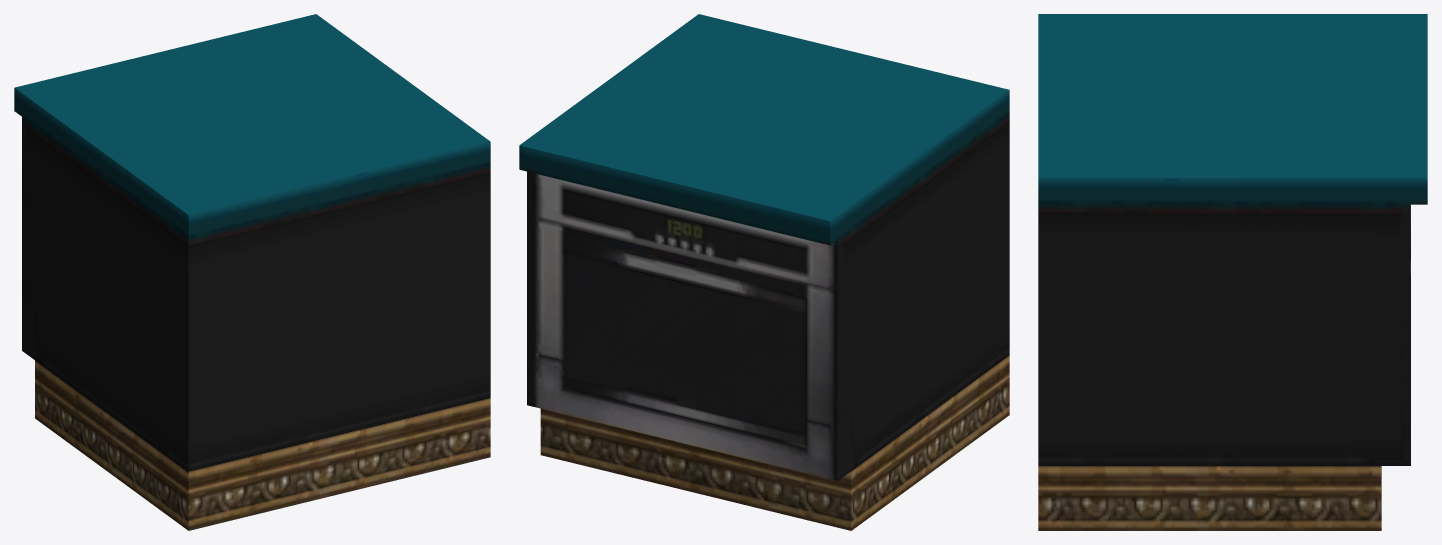
File: furni_0200323_02.FBX
The picture shows the model from 3 angles, left to right: view 1: azimuth 30°, elevation 25°; view 2: azimuth 150°, elevation 25°; view 3: azimuth 270°, elevation 25°; orthographic projection. The views are drawn at different scales.
Visible parts, largest first — view 1: furni_0200323_02; view 2: furni_0200323_02; view 3: furni_0200323_02.
Boxes of the visible parts, x1,y1,x2,y2 form: furni_0200323_02: [14, 14, 490, 530]; furni_0200323_02: [519, 14, 1009, 530]; furni_0200323_02: [1038, 14, 1427, 530].
Size of the model in its own units: 80 by 80 by 80.
